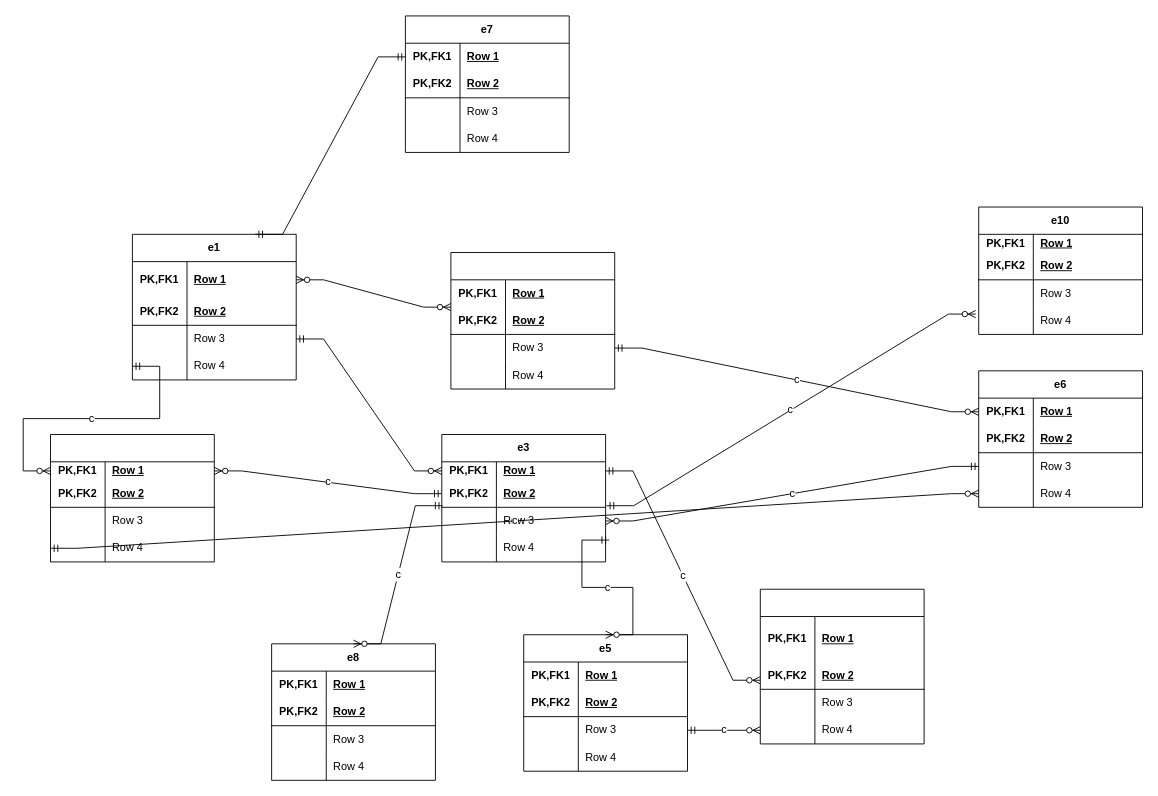
The diagram is 1158 pixels wide and 796 high, and some of its shapes have lost their labels. Each missing label, with the box of its shape:
e2: (450, 252, 615, 389)
e4: (759, 588, 924, 744)
e9: (50, 434, 214, 562)
